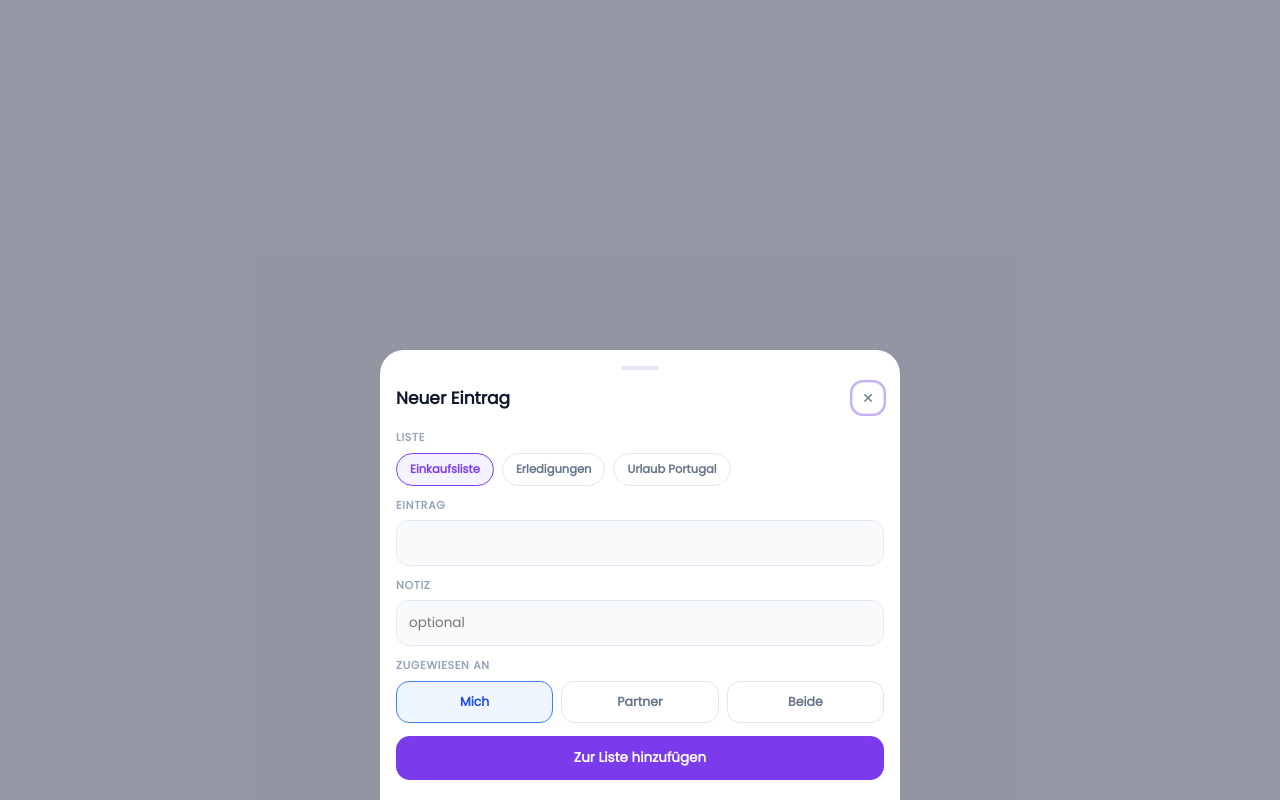
TodoSheet › erkennt Duplikate unabhaengig von Gross- und Kleinschreibung
Type "  HAFERFLOCKEN " into the field labelled "Eintrag" at (640, 543), box x1=396 y1=520 x2=884 y2=566
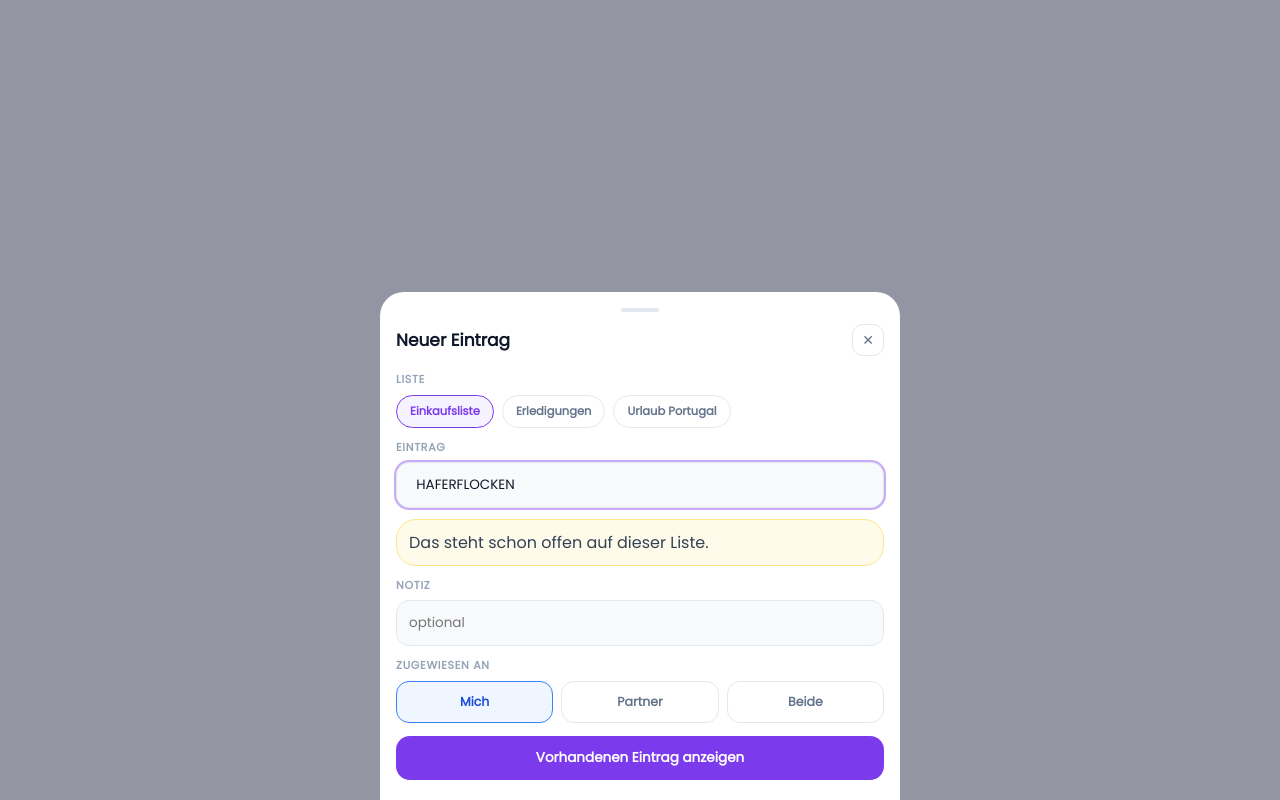
Now the message "Das steht schon offen auf dieser Liste." is shown, box x1=396 y1=519 x2=884 y2=566
